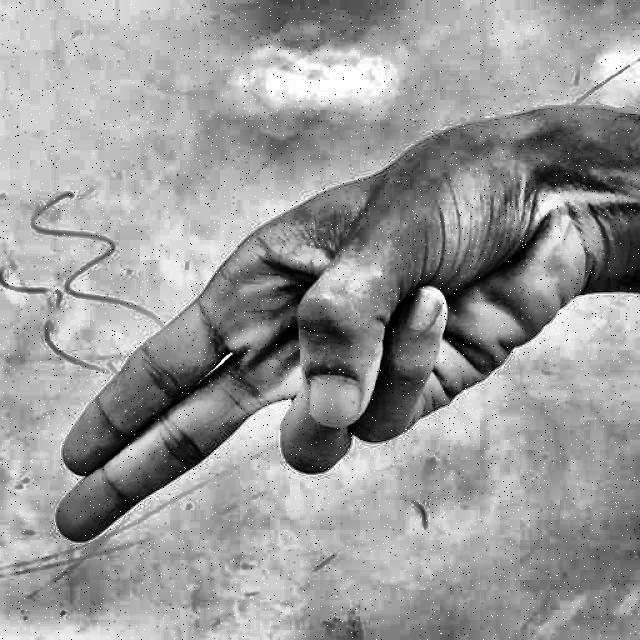Ha: (31, 87, 601, 602)
